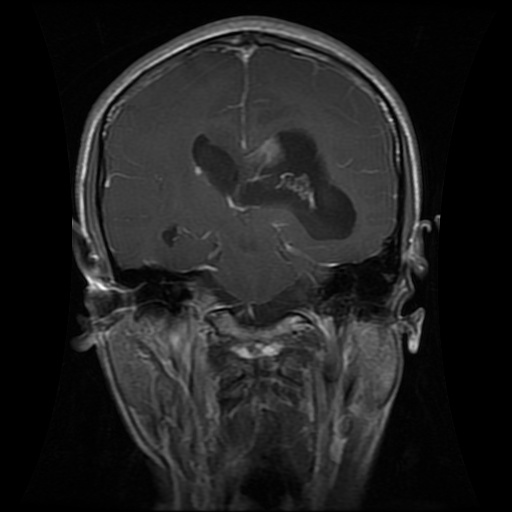glioma: (189, 125, 359, 243)
